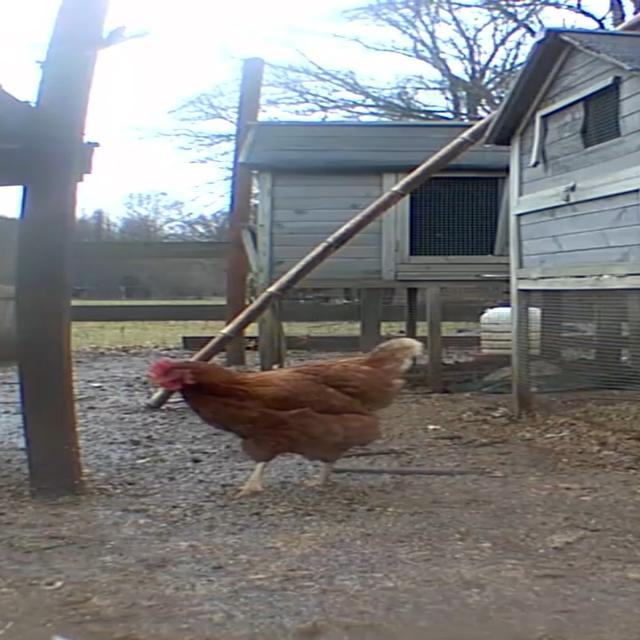walking: (145, 332, 442, 498)
